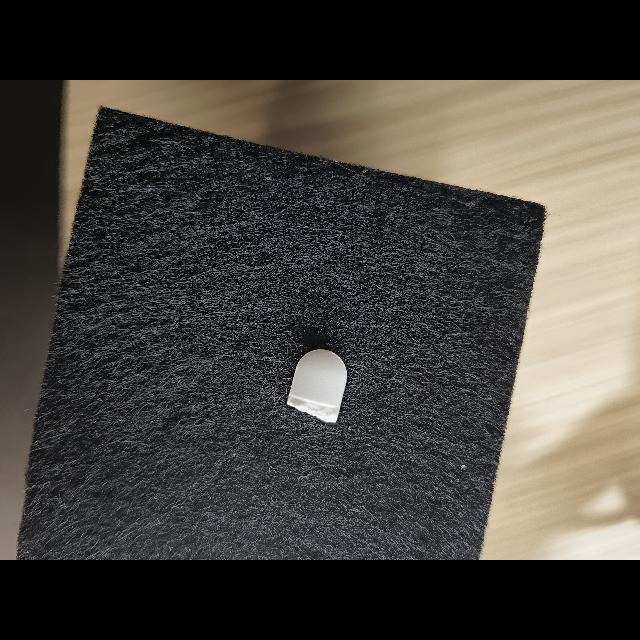Chipped Pill: (287, 349, 347, 423)
